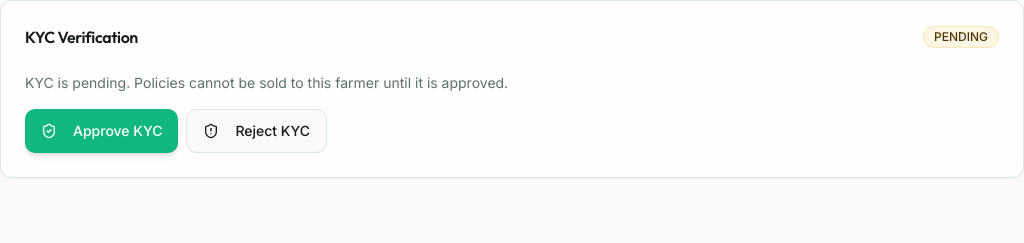
Test: FarmerKycDecision › requires a reason before a rejection can be submitted
The image size is (1024, 243).
Later steps or results of the test are not shown.
What coordinates should you click on to do the following:
click the button "Reject KYC"
I would click on:
 (257, 131)
Its box is x1=186 y1=109 x2=327 y2=153.
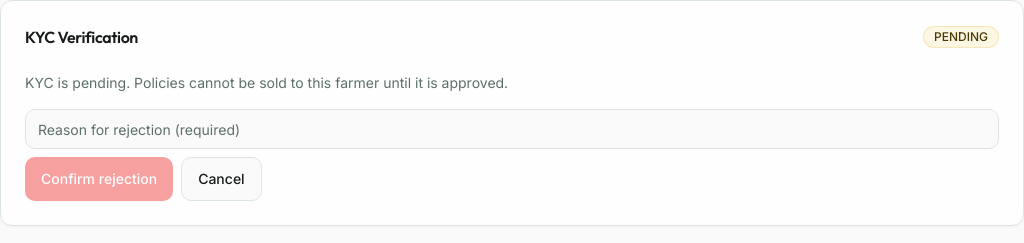
Expected: the button "Confirm rejection" is disabled, x1=25 y1=157 x2=173 y2=201
